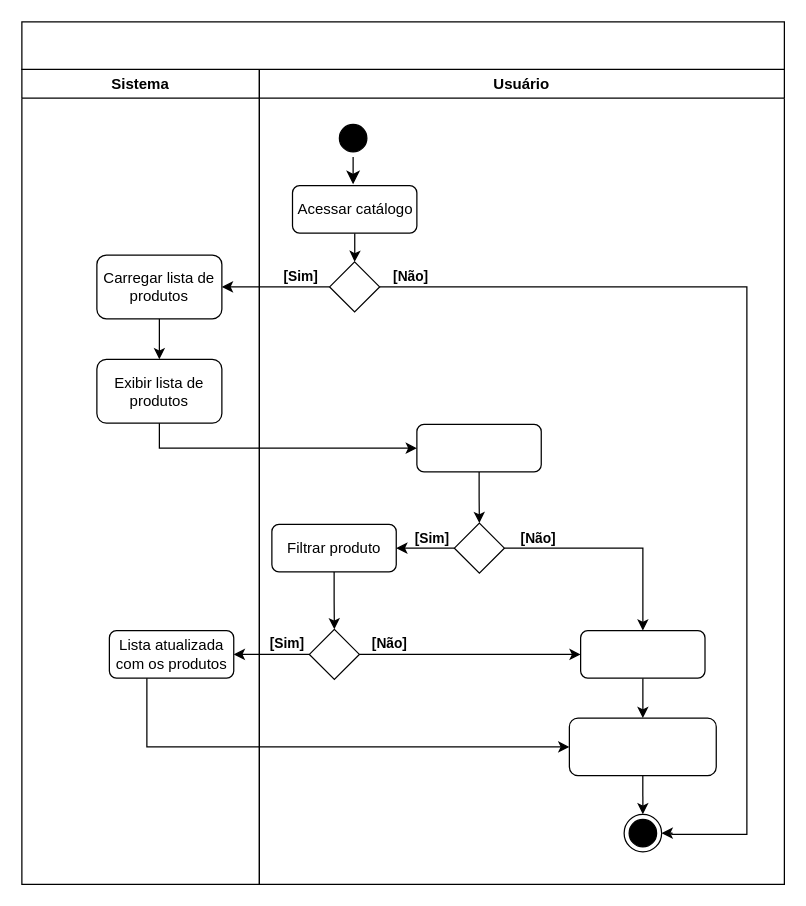
Some shapes in this 806 by 906 pixel diagram are drawn without their labels. The shapes that lost their labels are listed below. From the top down, each one's centre as x and y in pixels, then its label:
(x=402, y=45): Diagrama de Atividades: Navegar no Catálogo
(x=478, y=447): Buscar produtos
(x=642, y=653): Continuar navegando
(x=642, y=746): VIsualizar detalhes do produto
